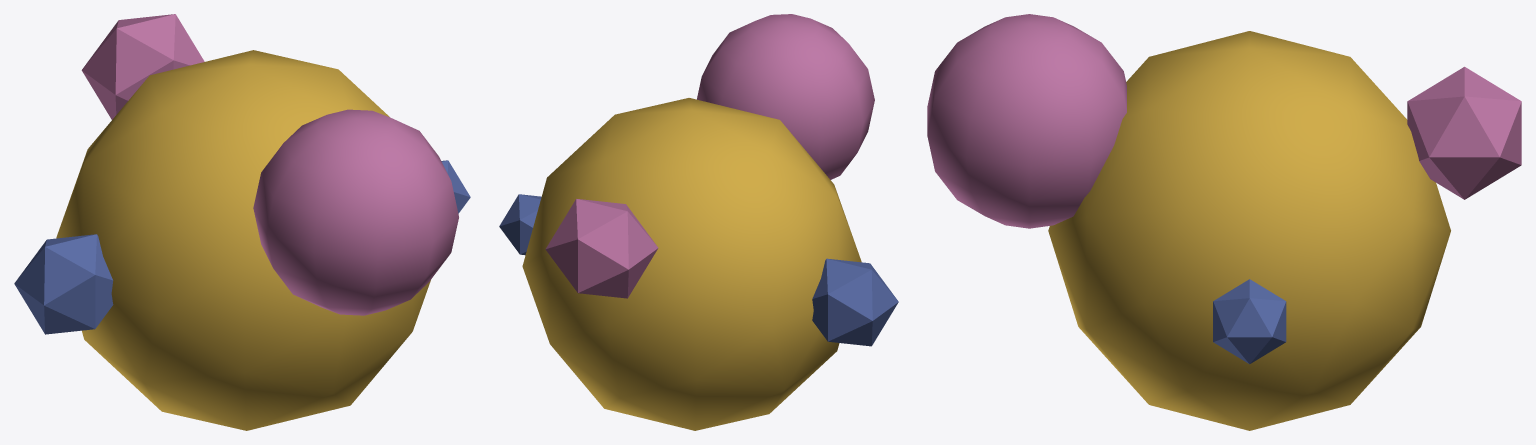
The model's file is book_wisp.glb.
The picture shows the model from 3 angles, left to right: view 1: azimuth 30°, elevation 25°; view 2: azimuth 150°, elevation 25°; view 3: azimuth 270°, elevation 25°; orthographic projection. The views are drawn at different scales.
Visible parts, largest first — view 1: body_core, head_core, orb_2, orb_3, orb_0; view 2: body_core, head_core, orb_3, orb_2, orb_0; view 3: body_core, head_core, orb_3, orb_0.
Part boxes in pixels (x1=…): body_core: x1=56, y1=50, x2=430, y2=430; head_core: x1=253, y1=109, x2=458, y2=315; orb_2: x1=14, y1=234, x2=113, y2=334; orb_3: x1=81, y1=14, x2=204, y2=119; orb_0: x1=441, y1=160, x2=470, y2=213; body_core: x1=522, y1=98, x2=861, y2=430; head_core: x1=697, y1=14, x2=874, y2=179; orb_3: x1=545, y1=199, x2=658, y2=298; orb_2: x1=812, y1=258, x2=898, y2=346; orb_0: x1=499, y1=194, x2=541, y2=255; body_core: x1=1048, y1=31, x2=1450, y2=430; head_core: x1=927, y1=14, x2=1126, y2=228; orb_3: x1=1407, y1=66, x2=1521, y2=199; orb_0: x1=1213, y1=279, x2=1286, y2=364.
Size of what is drawn, in the model's own units: 1.92 by 1.6 by 2.21.
